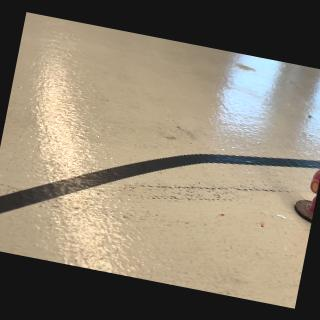teletubby: (310, 168, 320, 195), (309, 196, 316, 212)
